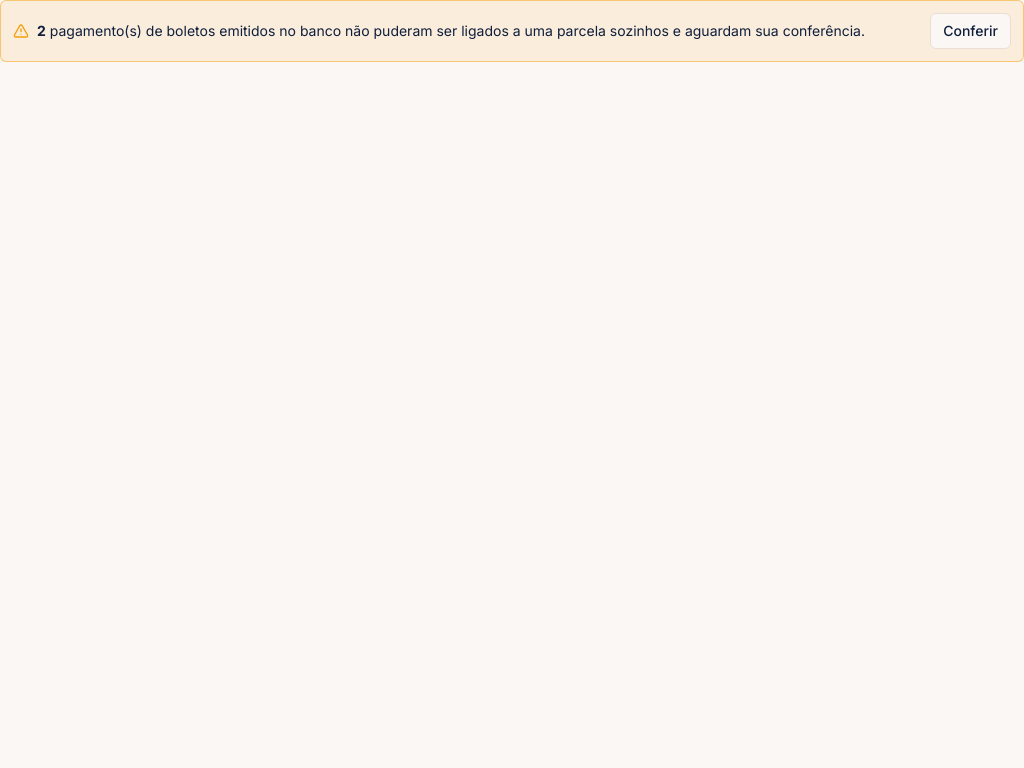
Test case: Pagamentos para conferir › avisa quantos pagamentos aguardam e lista cada um com o motivo
Expected: the text "aguardam sua conferência" is shown, [46,22,865,39]
Click the button "Conferir" at (971, 31), box [930,13,1011,49]
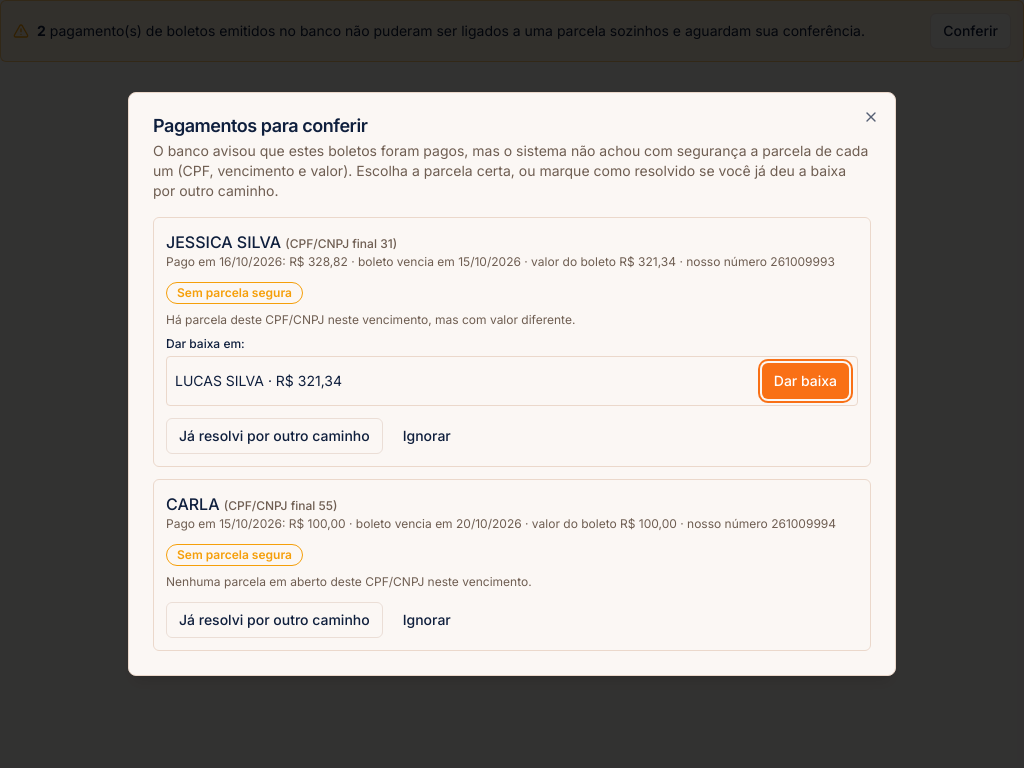
Expected: the text "JESSICA SILVA (CPF/CNPJ final 31)" is shown, [166,232,397,252]
Expected: the text "com valor diferente" is shown, [166,312,575,327]
Expected: the text "Nenhuma parcela em aberto deste CPF/CNPJ neste vencimento." is shown, [166,574,532,589]
